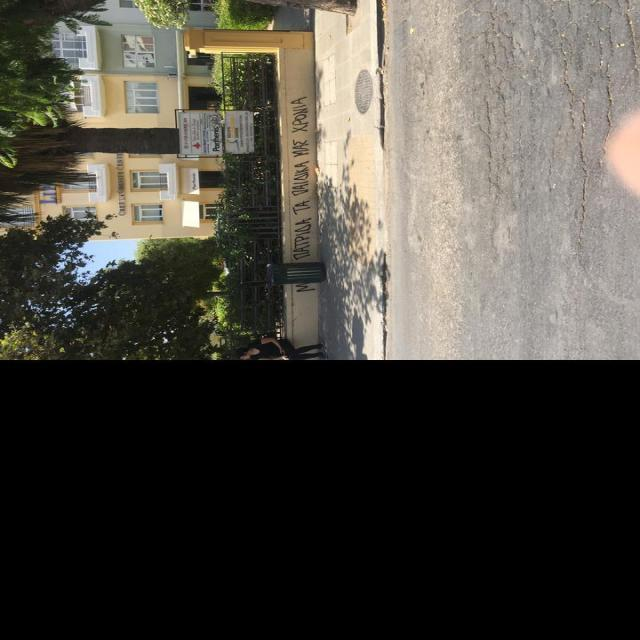nonspitting: (291, 96, 315, 292)
